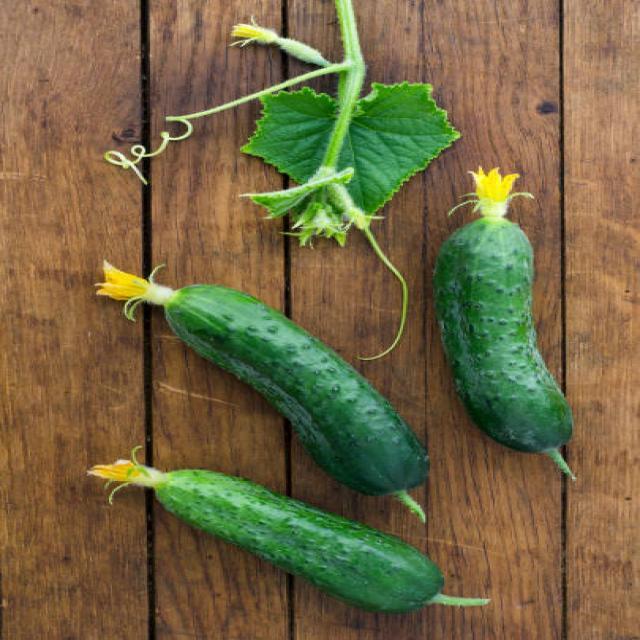cucumber: (166, 284, 428, 495), (157, 470, 441, 616), (435, 212, 575, 450)
